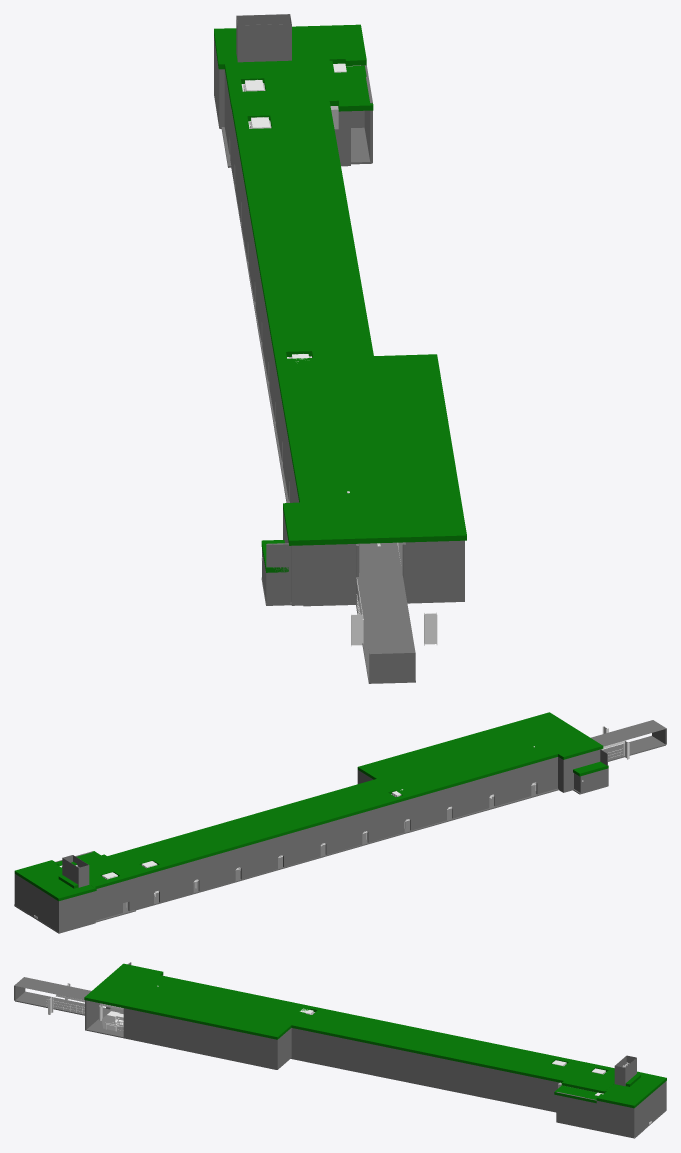
File: Correa 211.glb
The picture shows the model from 3 angles, top to bottom: view 1: azimuth 30°, elevation 25°; view 2: azimuth 150°, elevation 25°; view 3: azimuth 270°, elevation 25°; orthographic projection. The views are drawn at different scales.
Visible parts, largest first — view 1: Fake; view 2: Fake; view 3: Fake.
Boxes of the visible parts, box(x1,y1,x2,y2) form: Fake: box(214, 14, 466, 683); Fake: box(14, 712, 666, 933); Fake: box(14, 962, 666, 1138).
Size of the model in its own units: 49.3 by 8.23 by 92.58.
